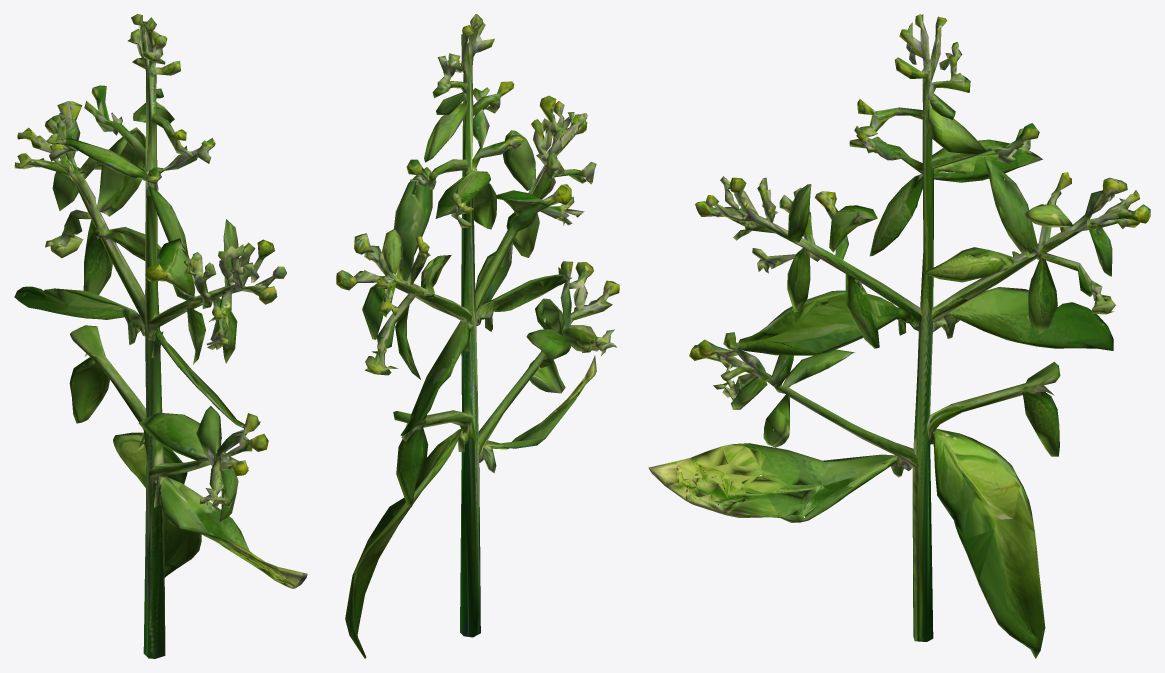
The model's file is sambong model new.fbx.
3 renders of one model, left to right at view 1: azimuth 30°, elevation 25°; view 2: azimuth 150°, elevation 25°; view 3: azimuth 270°, elevation 25°, orthographic. The views are drawn at different scales.
Visible parts, largest first — view 1: meshes[0]; view 2: meshes[0]; view 3: meshes[0].
Part boxes in pixels (<box>): meshes[0]: <box>14,14,307,658</box>; meshes[0]: <box>336,14,619,658</box>; meshes[0]: <box>648,14,1150,658</box>.
Bounding box in the file's own units: 33.14 × 144 × 106.
Materials: 1 (1 with a texture image).
